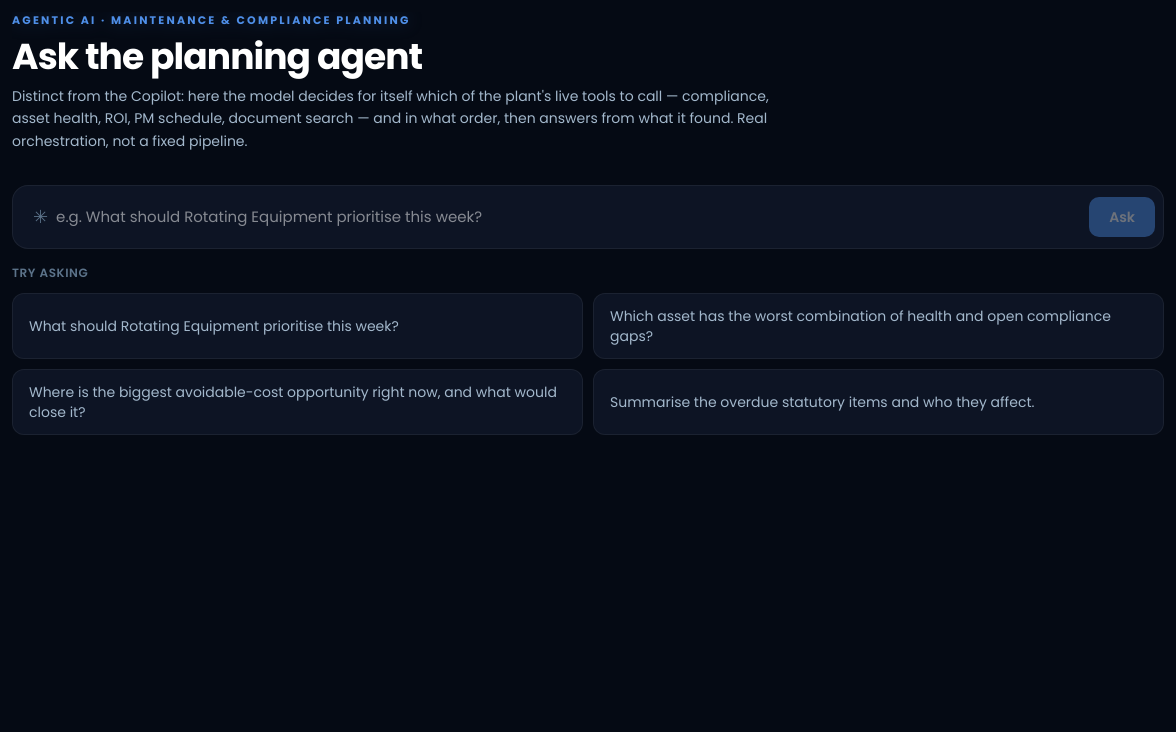
Test: Planning Agent page › renders the plan trace and answer on a successful multi-tool run
Type "What should Rotating Equipment prioritise?" into the field with placeholder "e.g. What should Rotating Equipment prioritise this week?" at (569, 217), box [56,194,1081,240]
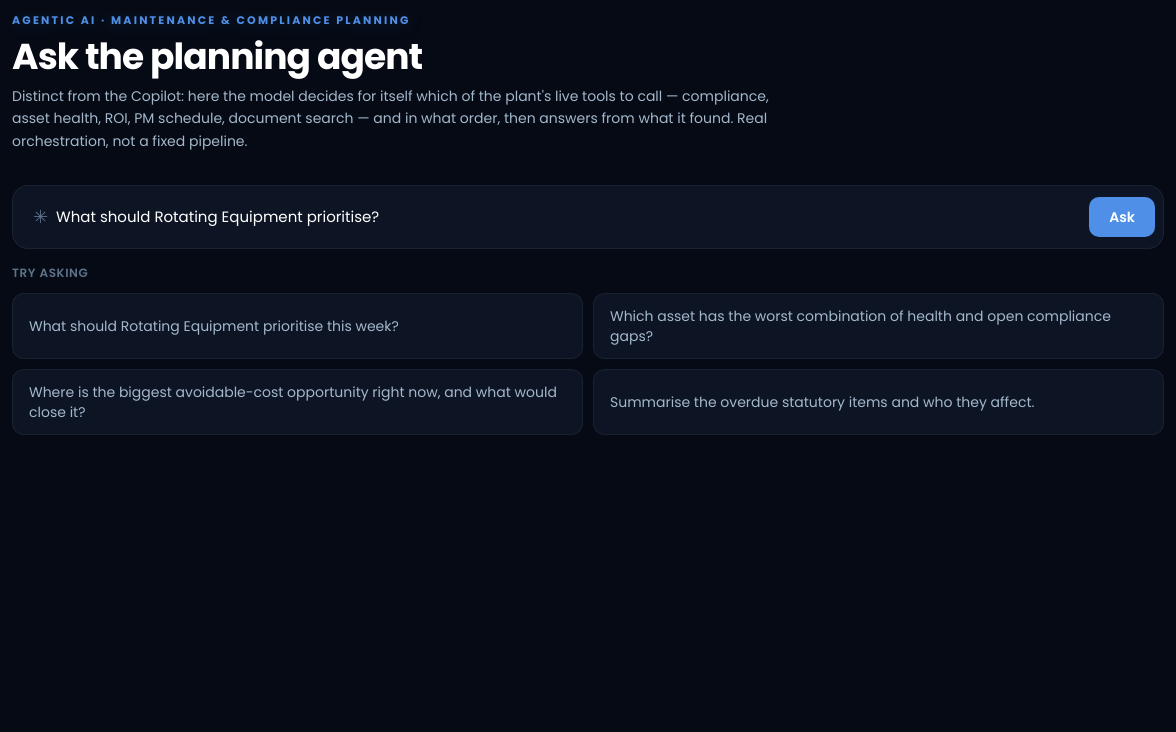
Click the button "Ask" at (1122, 217), box [1089,197,1155,237]
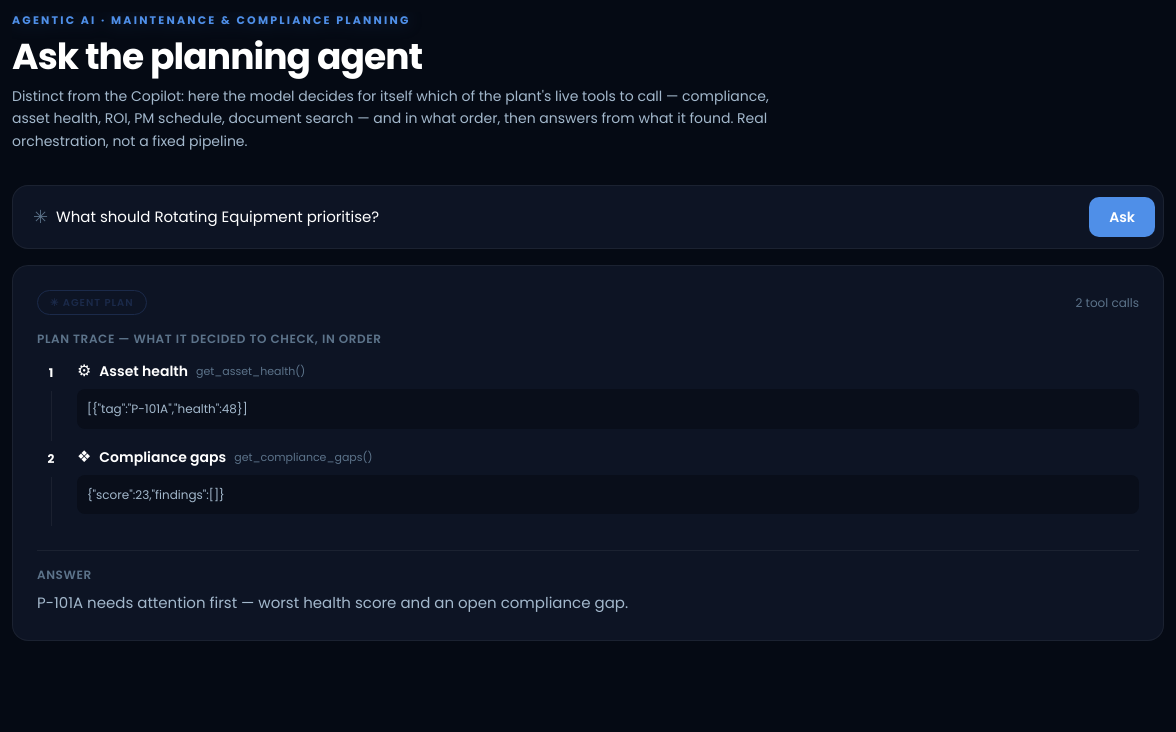
expect the text "P-101A needs attention first" is shown: met, box [37,592,628,613]
expect the text "get_asset_health()" is shown: met, box [196,363,305,380]
expect the text "get_compliance_gaps()" is shown: met, box [234,448,372,465]
